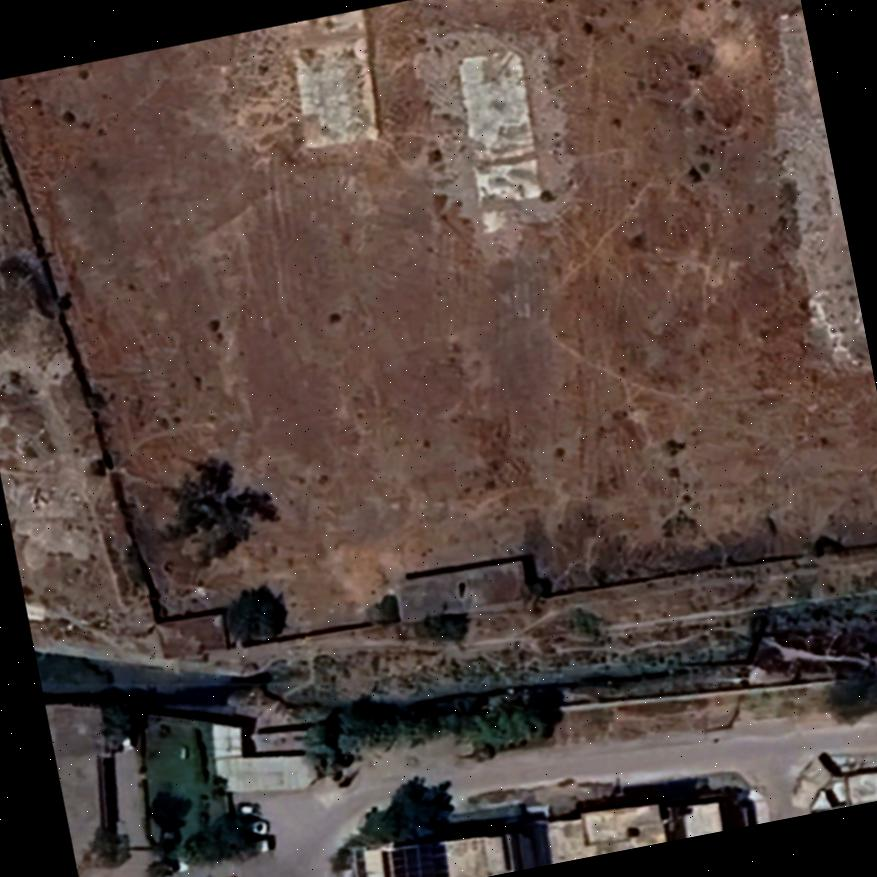Solarpanel: (384, 834, 448, 877)
